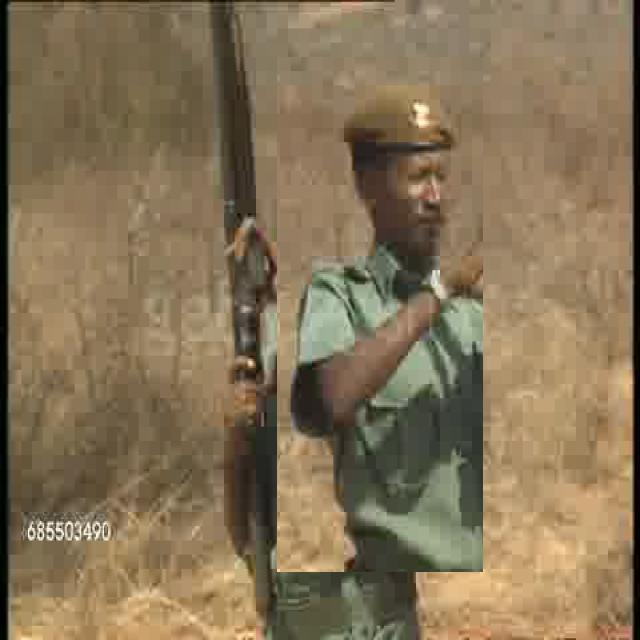poacher: (277, 57, 483, 572)
weapon: (206, 2, 274, 624)
